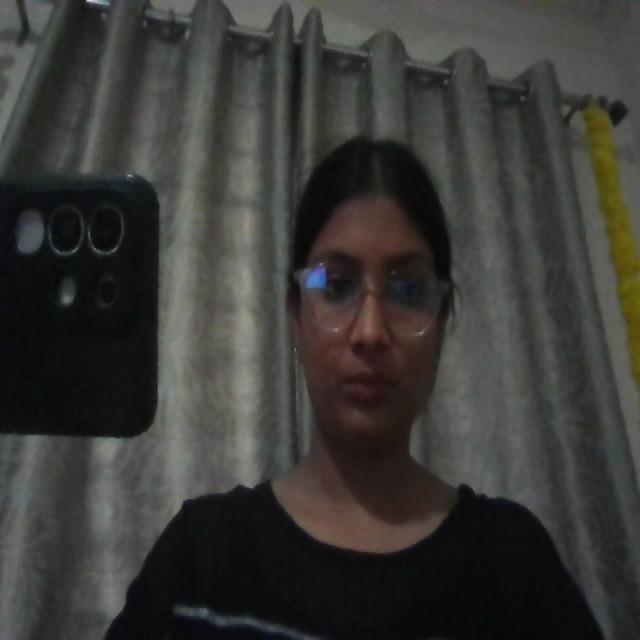phone: (0, 175, 159, 436)
